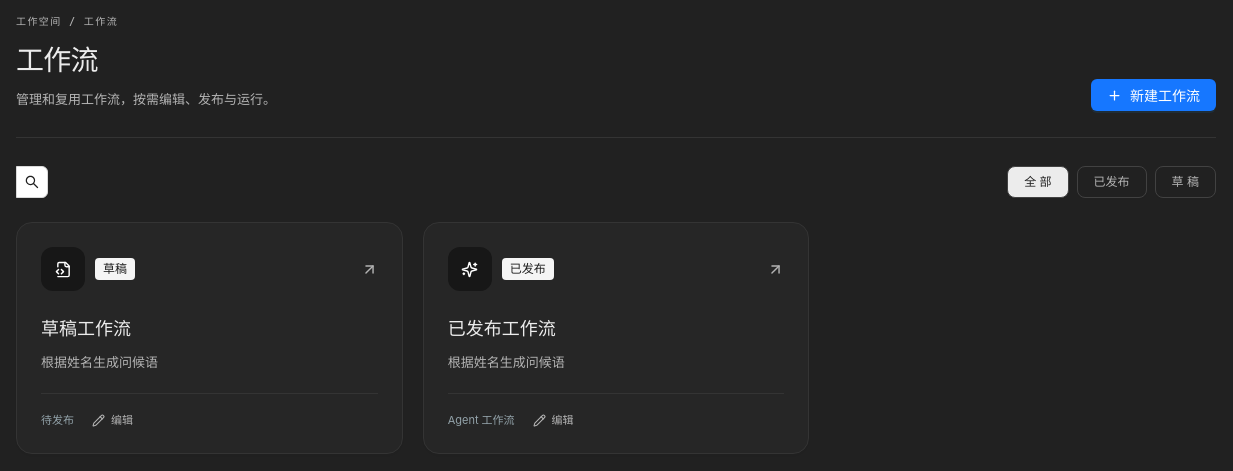
Test: 产品状态页面 › 按发布状态筛选统一工作流列表并暴露 aria-pressed
Expected: the heading "草稿工作流" is shown, [41, 318, 131, 339]
Step 1. Click the button "已发布" → click(1112, 182), box [1077, 166, 1147, 198]
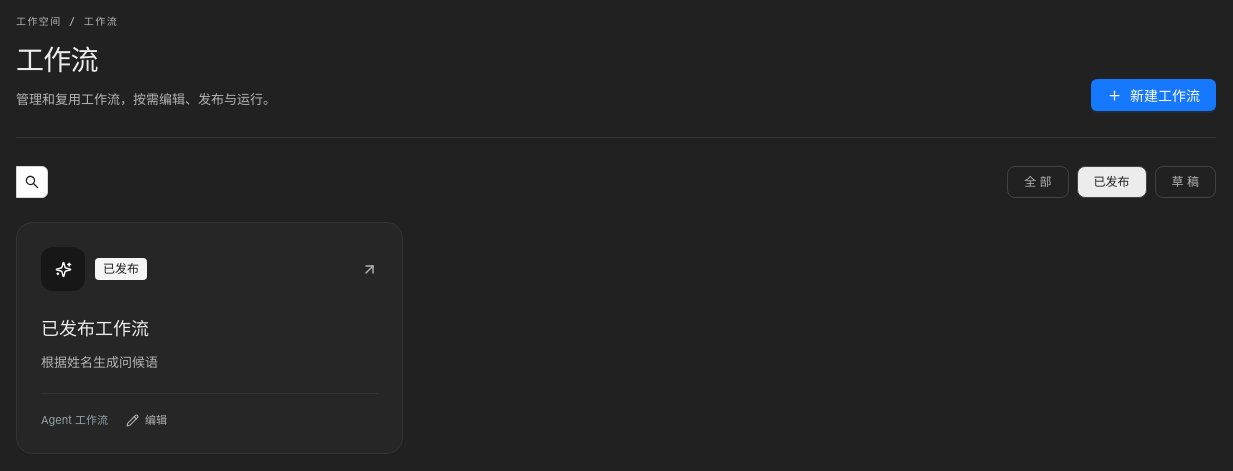
Expected: the heading "已发布工作流" is shown, [41, 318, 149, 339]
Expected: the link "草稿工作流" is gone
Step 2. Click the button "草 稿" → click(1185, 182), box [1155, 166, 1216, 198]
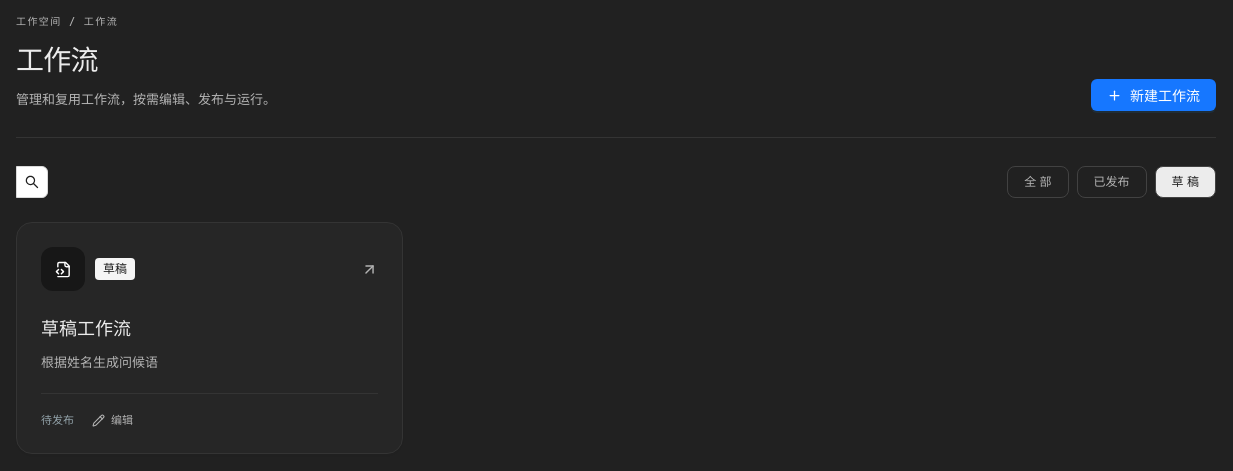
Expected: the heading "草稿工作流" is shown, [41, 318, 131, 339]
Expected: the link "已发布工作流" is gone
